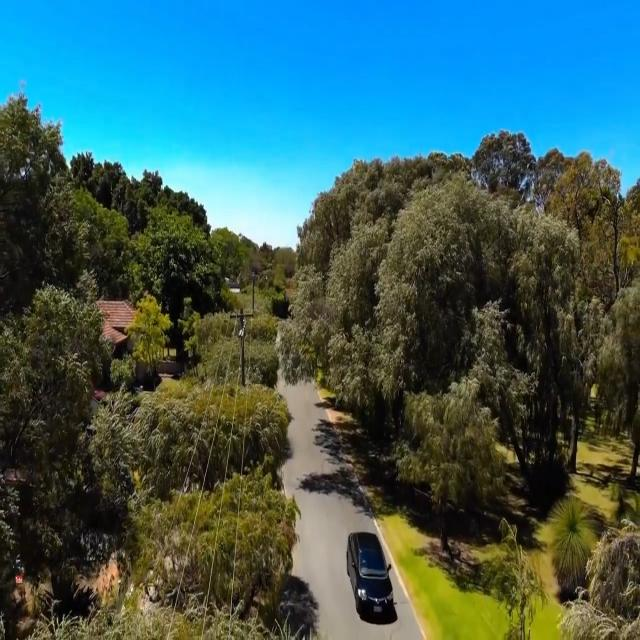Building: (80, 300, 146, 406)
Pole: (236, 308, 252, 386), (250, 270, 260, 314)
Tree: (285, 129, 549, 515), (0, 275, 126, 640), (552, 164, 640, 489), (121, 482, 290, 640), (0, 75, 91, 289), (120, 376, 284, 486), (90, 176, 206, 300), (544, 524, 640, 640), (191, 307, 275, 380), (130, 291, 164, 371)
Vehicle: (345, 527, 394, 622)
